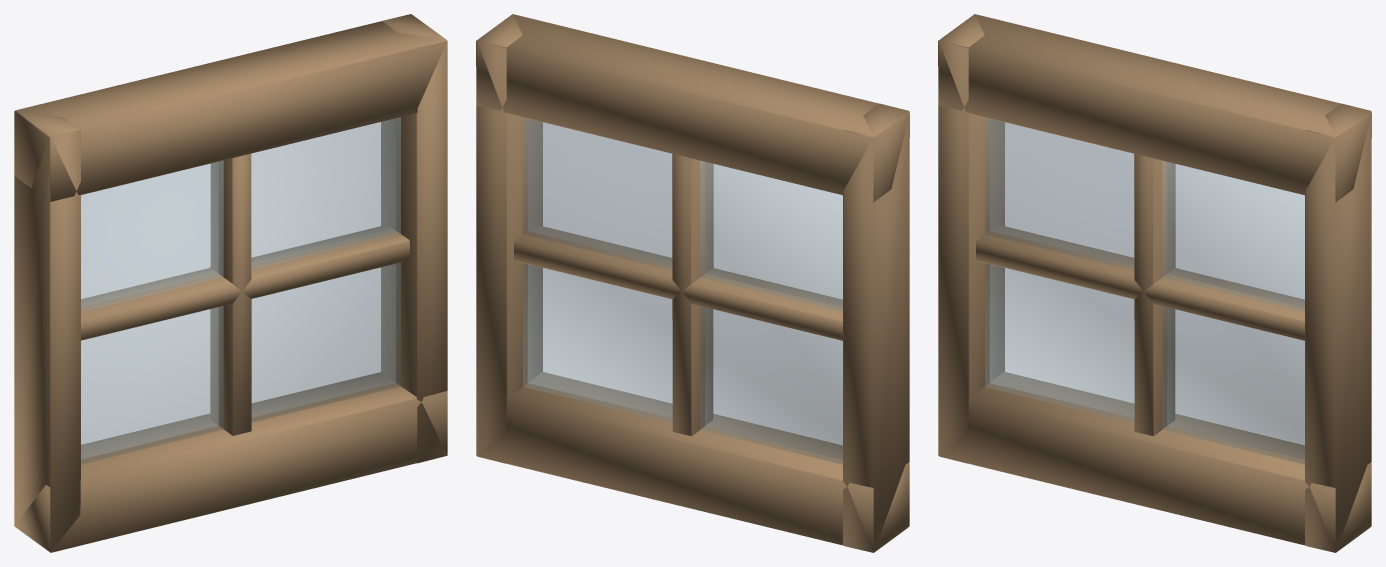
Rendered from struct_window.glb.
3 renders of one model, left to right at view 1: azimuth 30°, elevation 25°; view 2: azimuth 150°, elevation 25°; view 3: azimuth 330°, elevation 25°, orthographic.
Visible parts, largest first — view 1: struct_window; view 2: struct_window; view 3: struct_window.
Part boxes in pixels (x1,y1,x2,y2): struct_window: (14,14,447,552); struct_window: (476,14,909,552); struct_window: (938,14,1371,552).
Bounding box in the file's own units: 1 × 1 × 0.1579.
